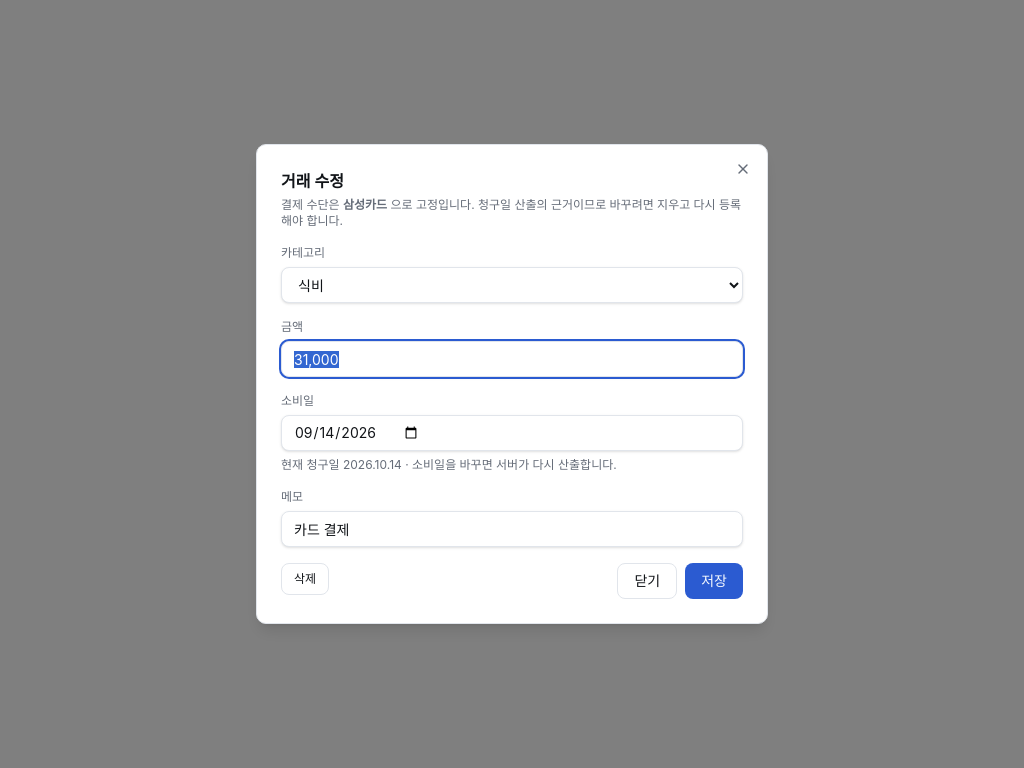
Test: TransactionEditDialog - 거래 수정·삭제 › 금액을 0으로 두면 저장하지 않는다
Step 1. Replace the text in the field labelled "금액" with "0" → (512, 359), box [281,341,743,377]
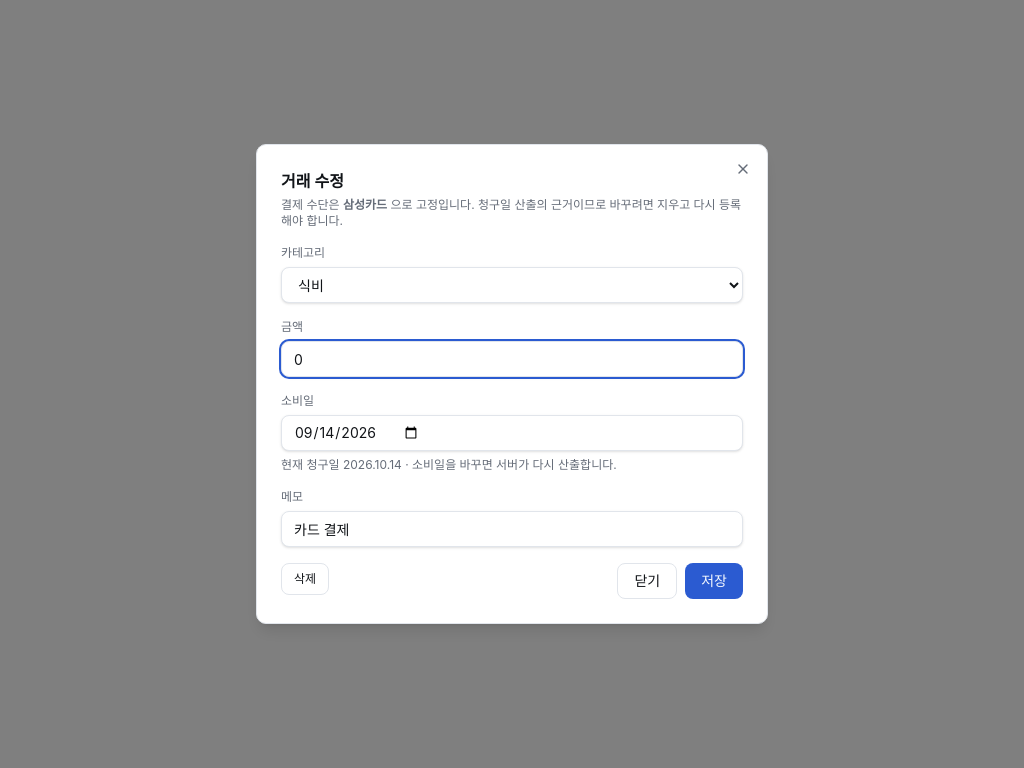
Step 2. Click the button "저장" → (714, 581), box [685,563,743,599]
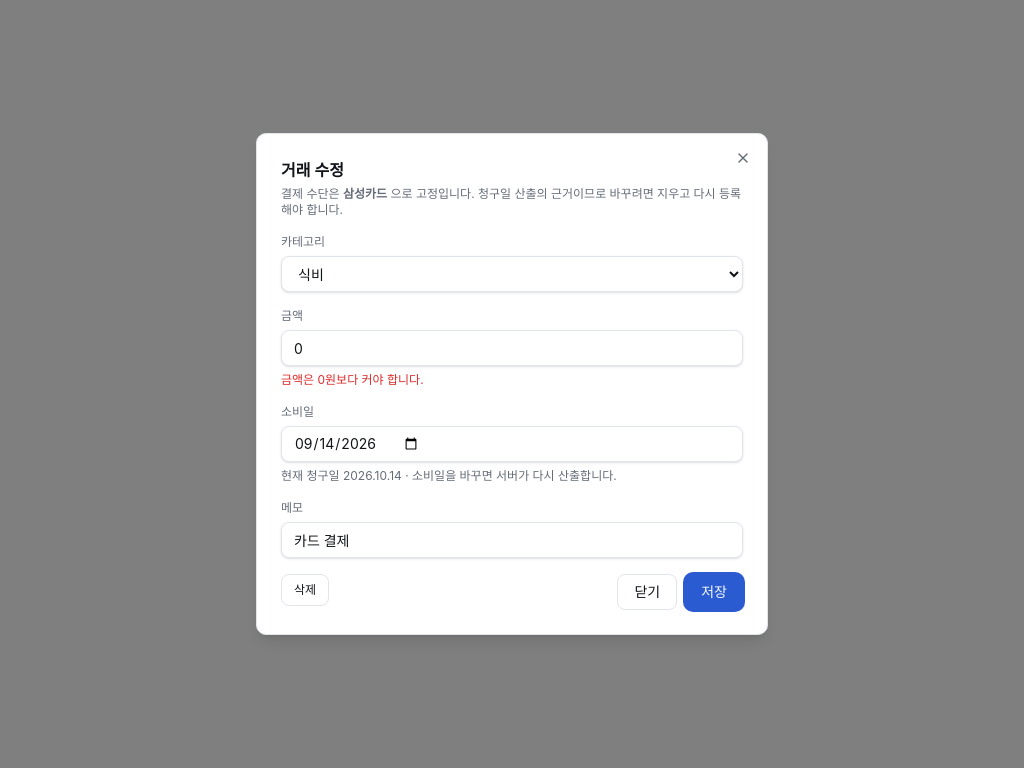
Expected: the message shows "0원보다 커야", [281,372,424,387]
